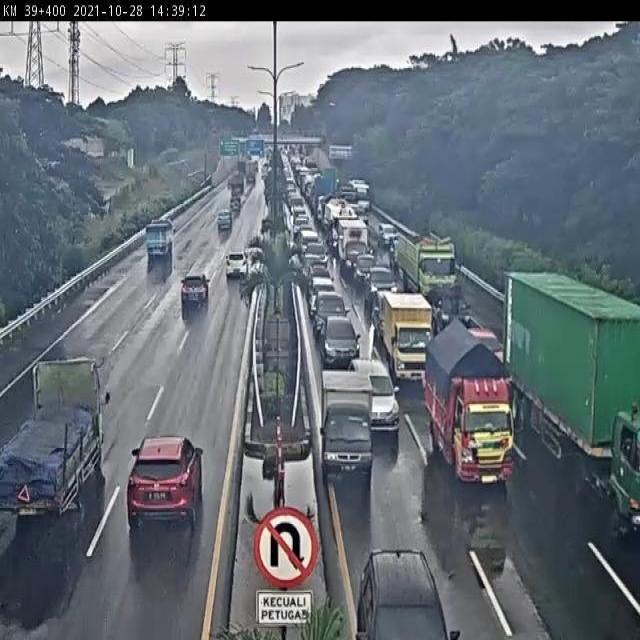big truck: (507, 269, 640, 512), (396, 233, 464, 331)
car: (359, 550, 463, 640), (123, 438, 202, 542), (351, 357, 398, 431), (323, 315, 357, 364), (179, 269, 211, 304), (317, 296, 349, 331), (310, 278, 340, 314), (222, 245, 248, 280), (368, 267, 392, 300), (216, 209, 233, 235)
small truck: (425, 311, 520, 492), (2, 365, 100, 523), (326, 368, 374, 480), (383, 295, 439, 389), (145, 214, 175, 270)
